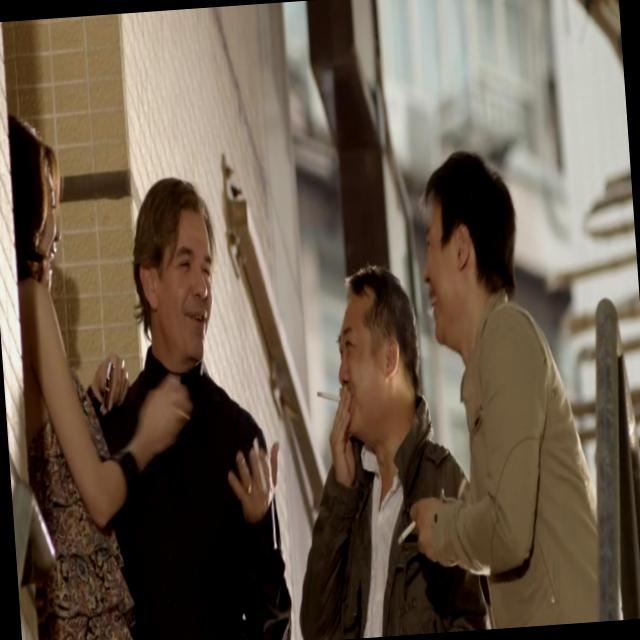smoke: (250, 439, 268, 498), (393, 509, 419, 547), (313, 382, 339, 412), (102, 358, 114, 386)
